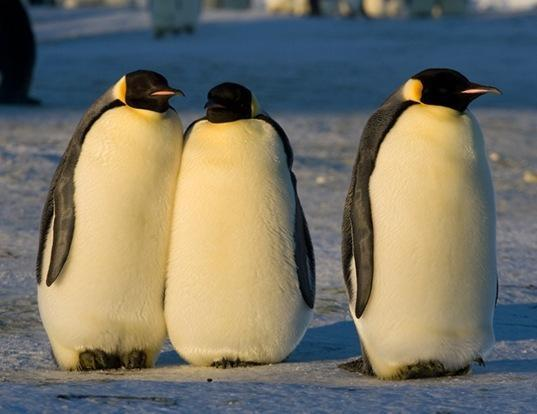Penguin: (340, 68, 500, 379), (37, 70, 182, 368), (165, 83, 316, 366)
